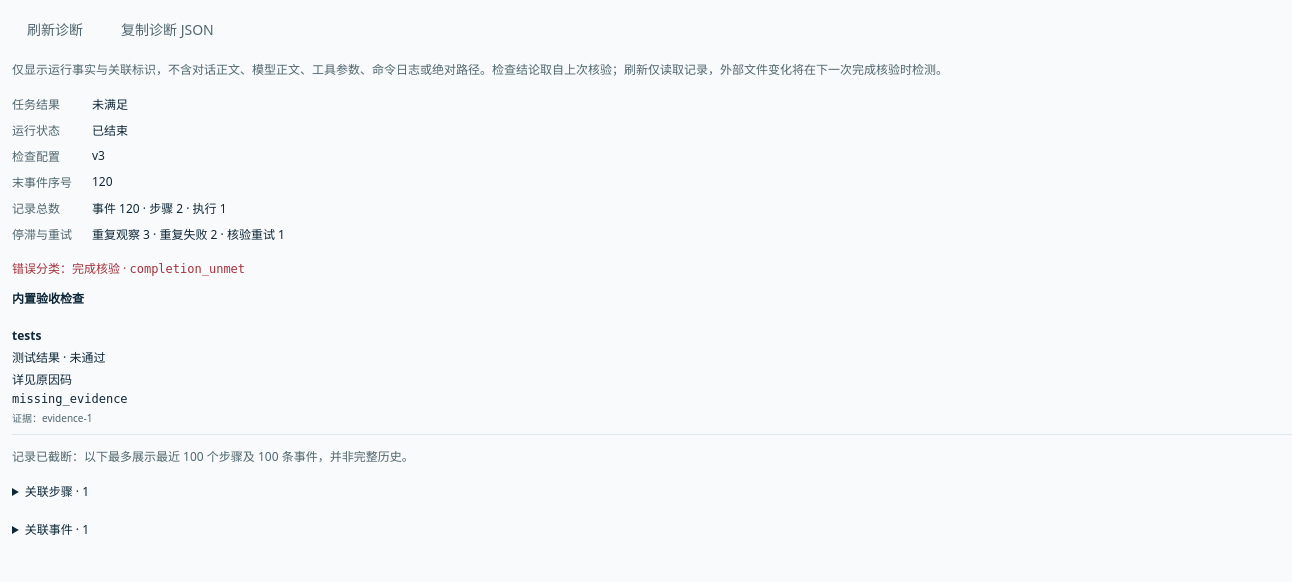
运行观察诊断 › 复制白名单 JSON，不带后端新增正文和事件 payload
The width and height of the screenshot is (1292, 582).
Click the button with test id "observer-copy". click: x=167, y=30
box: x1=106 y1=12 x2=229 y2=48
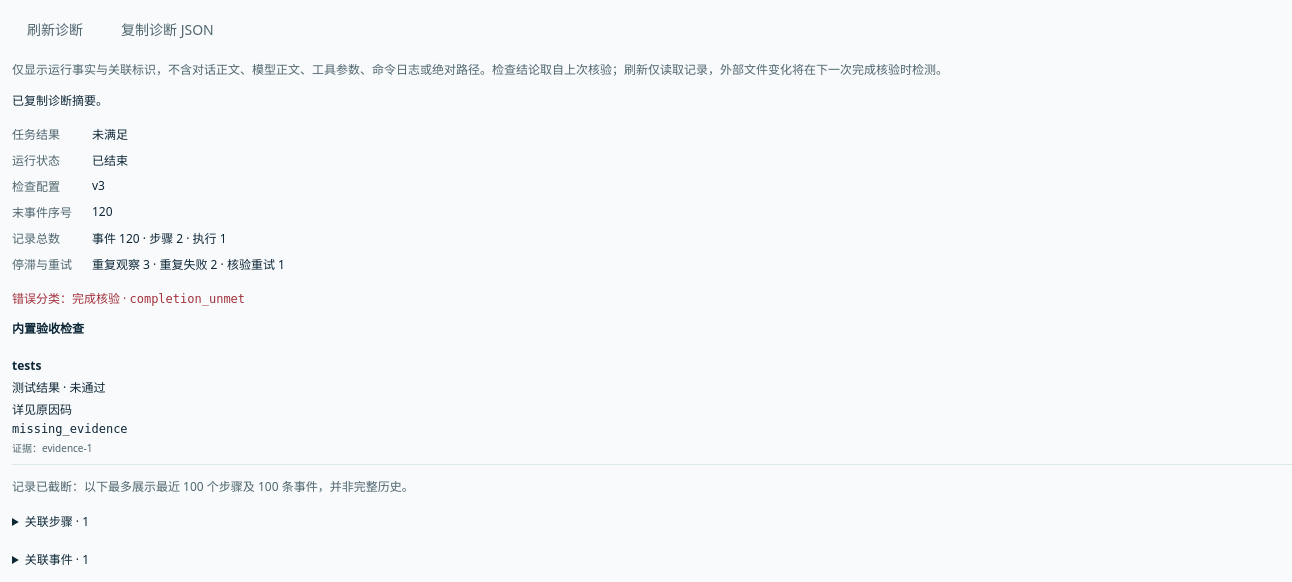
Expected: the text "已复制诊断摘要" is shown, x1=12 y1=92 x2=108 y2=109
